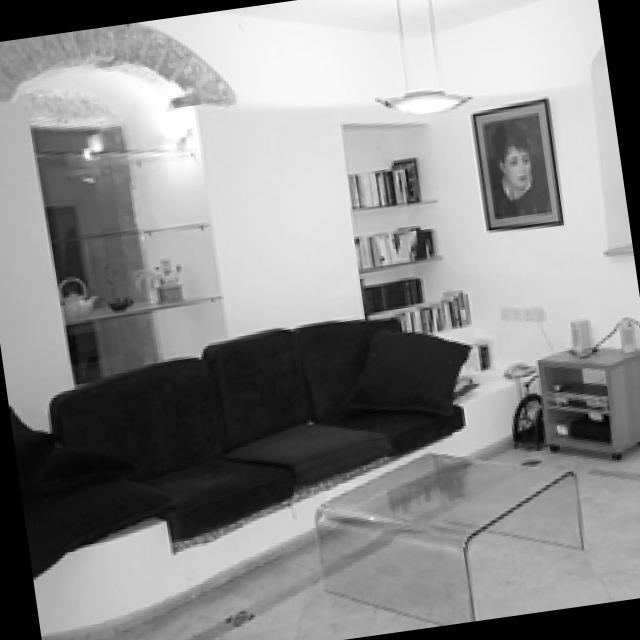arch: (0, 22, 234, 106)
books crop: (348, 227, 435, 267), (347, 158, 419, 205), (389, 289, 467, 329), (358, 274, 418, 309), (463, 337, 493, 366)
ceiling beam: (228, 0, 528, 37)
ceiling lamps: (375, 0, 465, 109)
cushion occluded: (26, 478, 169, 575), (340, 333, 465, 411), (21, 441, 128, 488)
jar -X: (150, 279, 183, 298)
lamp crop: (157, 116, 190, 146)
magazine: (508, 393, 537, 442)
painting crop: (468, 96, 559, 227)
phone charger: (498, 355, 532, 377)
plant -x: (100, 247, 129, 310)
shelves crop: (25, 106, 224, 383)
small table part: (311, 452, 581, 623), (532, 342, 640, 451)
sofa bed: (26, 314, 465, 637)
stereo: (544, 380, 603, 409)
teapot: (57, 290, 94, 318)
wall tile: (499, 302, 545, 319)
